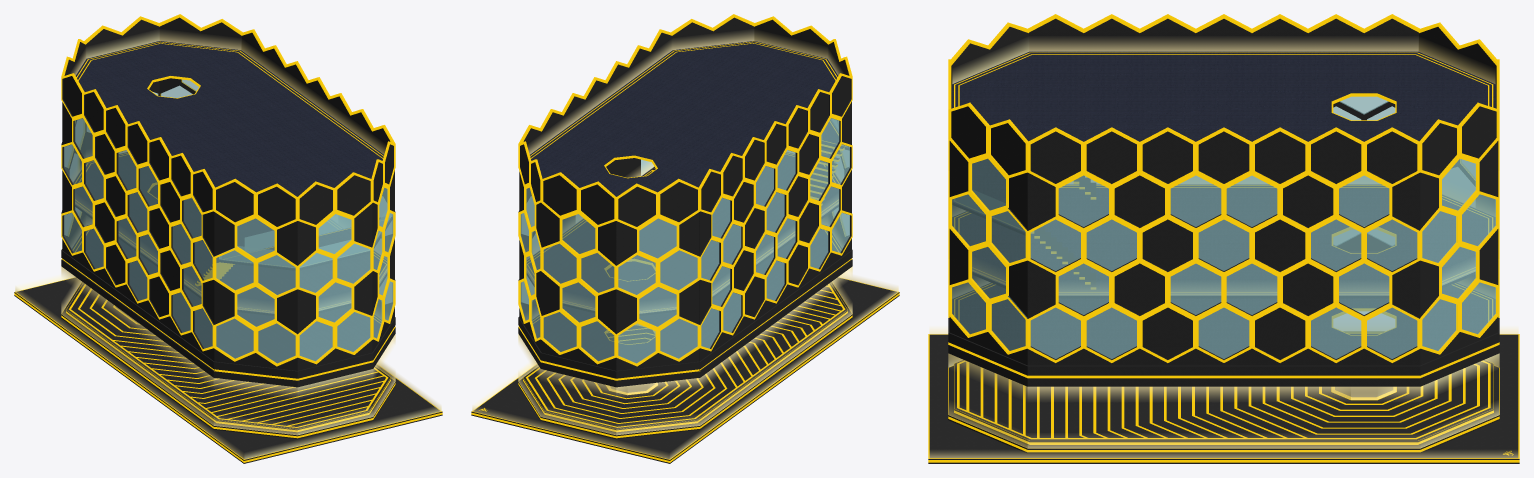
The model's file is Dhingia Builds 07 Size 2x1 Yellow.glb.
3 renders of one model, left to right at view 1: azimuth 30°, elevation 25°; view 2: azimuth 150°, elevation 25°; view 3: azimuth 270°, elevation 25°, orthographic. The views are drawn at different scales.
Parts seen in each view (by area): view 1: Mesh_16, Mesh_6.001, Mesh_0, Mesh_3, Mesh_2, Mesh_10, Mesh_18, Mesh_19, Mesh_4, Mesh_20, Mesh_1, Mesh_5 (+1 smaller); view 2: Mesh_16, Mesh_6.001, Mesh_0, Mesh_4, Mesh_2, Mesh_10, Mesh_18, Mesh_19, Mesh_1, Mesh_3, Mesh_20, Mesh_17; view 3: Mesh_1, Mesh_6.001, Mesh_0, Mesh_16, Mesh_10, Mesh_18, Mesh_19, Mesh_4, Mesh_3, Mesh_2, Mesh_20, Mesh_17 (+1 smaller).
Part boxes in pixels (x1,y1,x2,y2): Mesh_16: [75, 41, 384, 196]; Mesh_6.001: [64, 79, 393, 363]; Mesh_0: [14, 277, 442, 463]; Mesh_3: [213, 141, 395, 387]; Mesh_2: [61, 73, 214, 377]; Mesh_10: [15, 32, 441, 459]; Mesh_18: [73, 152, 386, 315]; Mesh_19: [72, 225, 381, 362]; Mesh_4: [61, 14, 242, 259]; Mesh_20: [69, 284, 388, 427]; Mesh_1: [242, 29, 395, 326]; Mesh_5: [219, 209, 390, 267]; Mesh_16: [529, 41, 838, 196]; Mesh_6.001: [520, 118, 849, 363]; Mesh_0: [471, 277, 899, 463]; Mesh_4: [518, 141, 700, 387]; Mesh_2: [699, 73, 852, 377]; Mesh_10: [472, 32, 898, 459]; Mesh_18: [527, 152, 840, 315]; Mesh_19: [532, 224, 841, 362]; Mesh_1: [518, 29, 671, 326]; Mesh_3: [671, 14, 852, 259]; Mesh_20: [526, 284, 845, 427]; Mesh_17: [652, 120, 849, 205]; Mesh_1: [1027, 127, 1420, 386]; Mesh_6.001: [952, 96, 1495, 358]; Mesh_0: [928, 331, 1519, 463]; Mesh_16: [951, 51, 1496, 141]; Mesh_10: [929, 40, 1518, 458]; Mesh_18: [952, 185, 1495, 298]; Mesh_19: [952, 283, 1495, 358]; Mesh_4: [1419, 22, 1499, 386]; Mesh_3: [948, 22, 1028, 386]; Mesh_2: [1028, 14, 1419, 252]; Mesh_20: [957, 332, 1490, 439]; Mesh_17: [952, 159, 1095, 288].
Size of what is drawn, in the model's own units: 15.95 by 19.7 by 31.95.
5 materials, 3 textured.
